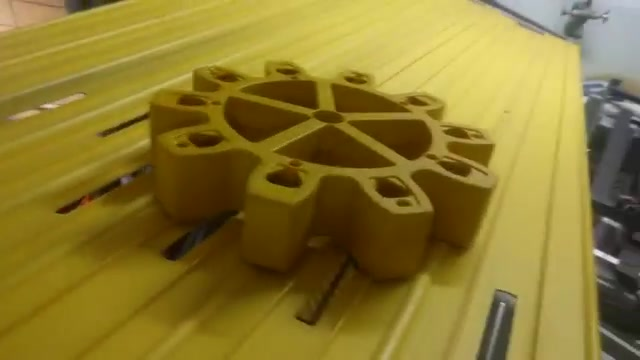gear: (134, 27, 509, 300)
